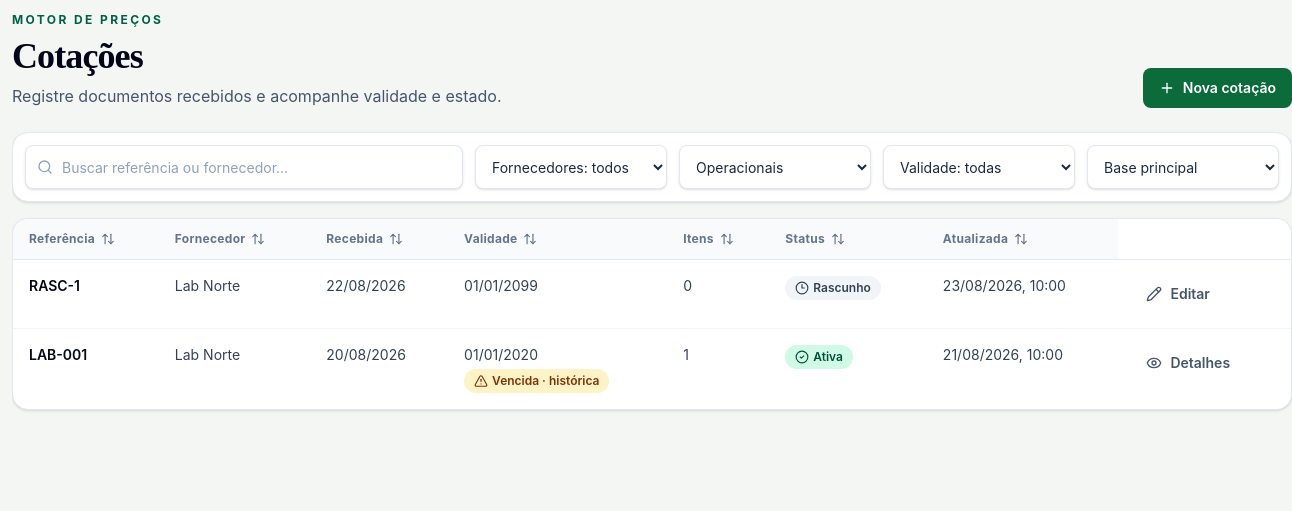
QuotationsPage › exibe badges textuais de status e validade
The image size is (1292, 511).
Select "Status: todos" in the 2nd dropdown named "Filtrar por status" at (775, 167), box [679, 145, 871, 189]
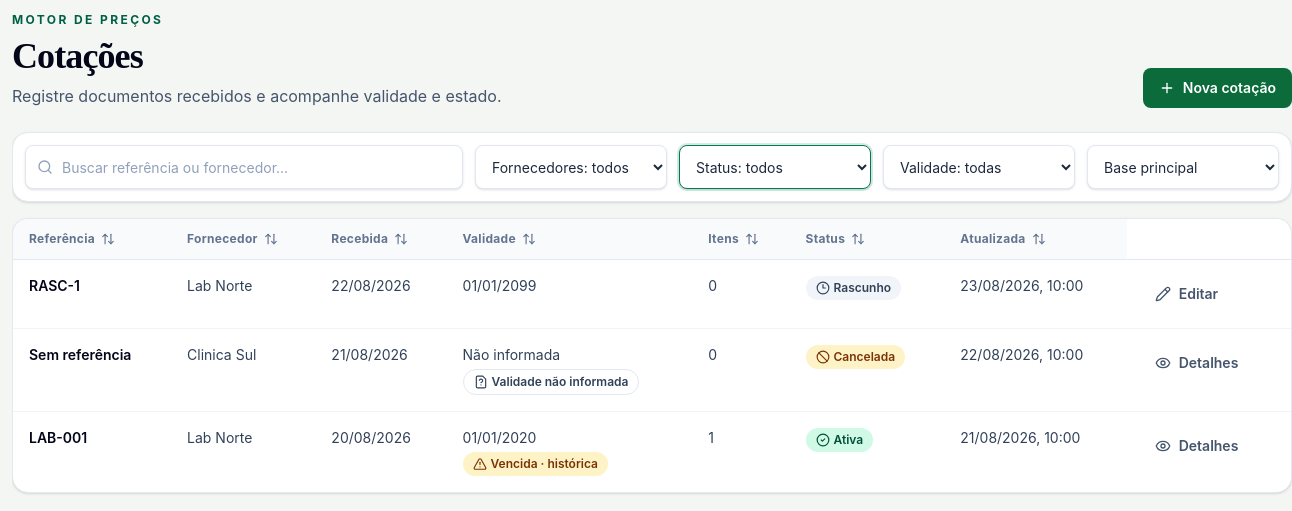
Check: the text "Ativa" is shown, box [806, 428, 873, 452]
Check: the text "Cancelada" is shown, box [806, 345, 905, 369]
Check: the text "Validade não informada" is shown, box [462, 369, 639, 395]
